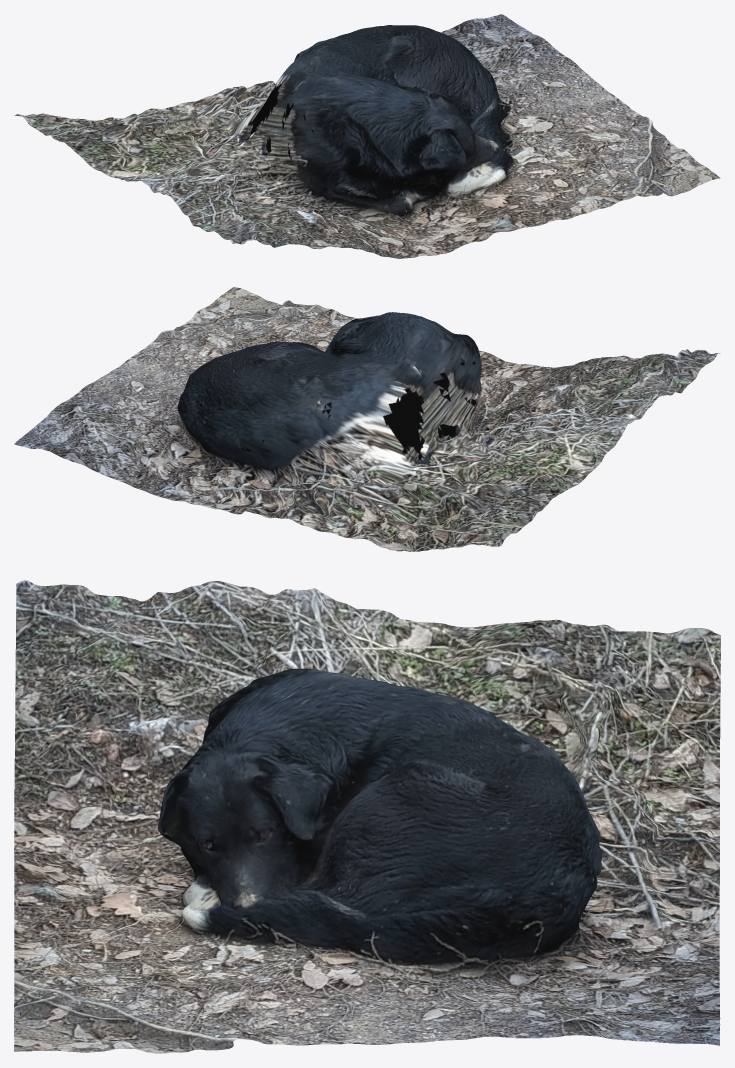
File: black-dog.glb
3 views of the same model, one above another, from view 1: azimuth 30°, elevation 25°; view 2: azimuth 150°, elevation 25°; view 3: azimuth 270°, elevation 25° (orthographic). The views are drawn at different scales.
Parts seen in each view (by area): view 1: Object_2; view 2: Object_2; view 3: Object_2.
Boxes of the visible parts, bbox=[...] form: Object_2: bbox=[14, 14, 720, 258]; Object_2: bbox=[14, 287, 720, 551]; Object_2: bbox=[14, 580, 720, 1053].
Size of the model in its own units: 0.8778 by 0.1931 by 0.6849.
Materials: 1 (1 with a texture image).
